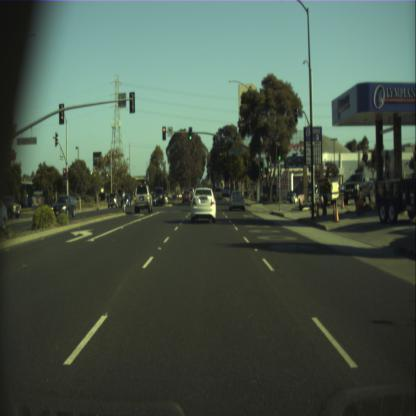Green: (276, 144, 282, 161), (188, 128, 192, 140), (260, 162, 262, 172)
RedLeft: (162, 127, 165, 139)
